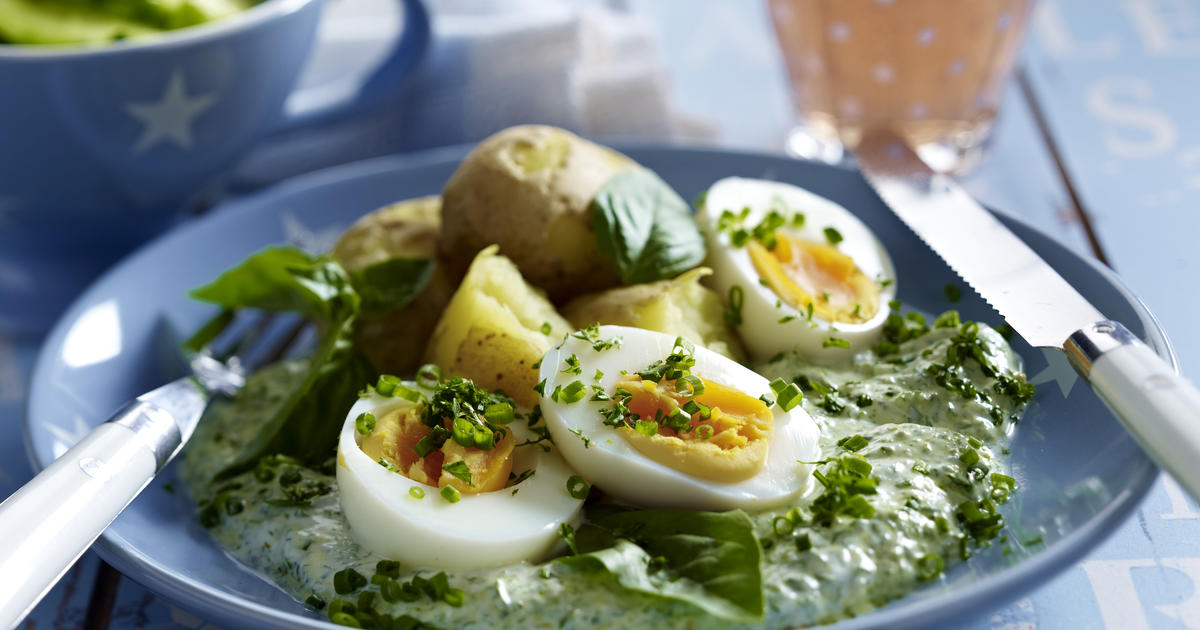boiled potatoes: (444, 120, 685, 275), (433, 248, 560, 388)
fried egg: (334, 380, 584, 575), (563, 311, 783, 511), (706, 185, 873, 342)
